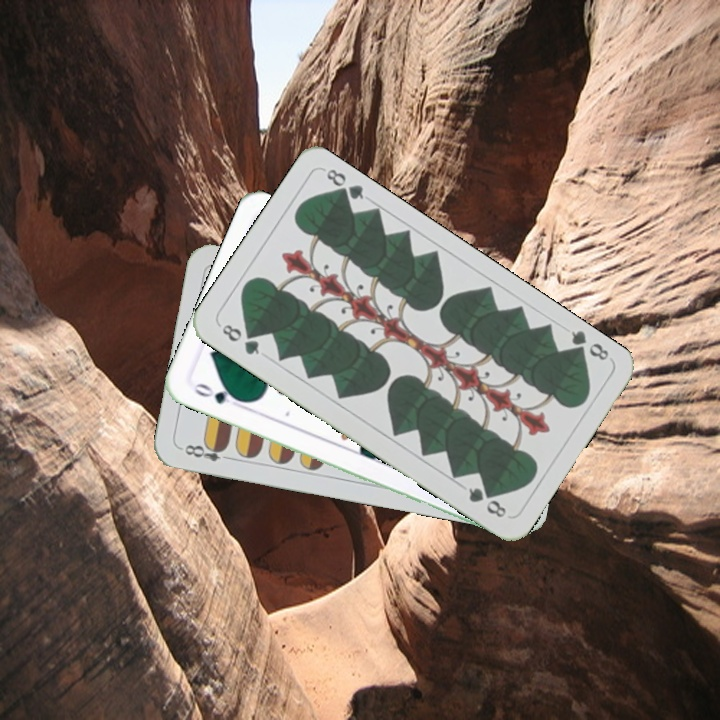E8: (180, 438, 236, 464)
G8: (565, 326, 612, 363), (217, 320, 262, 358)
GO: (190, 378, 246, 407)
